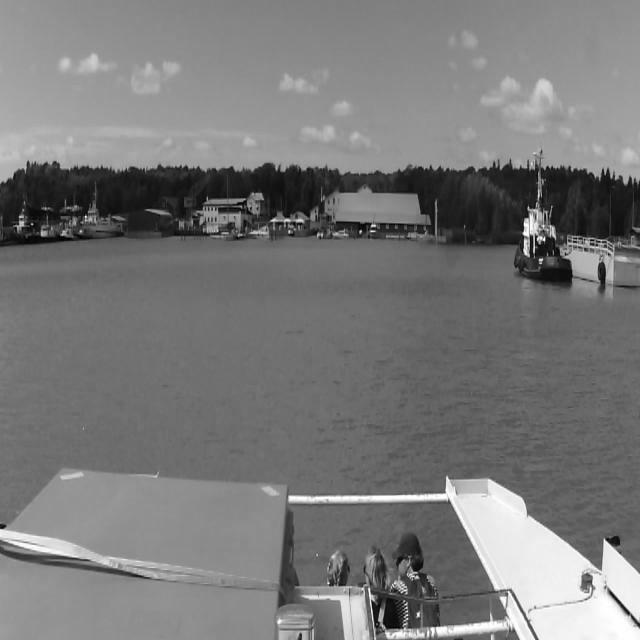ship: (514, 150, 574, 284), (210, 172, 230, 241), (410, 203, 429, 241), (248, 225, 270, 240), (368, 223, 378, 239), (332, 229, 348, 239), (316, 229, 322, 239)
